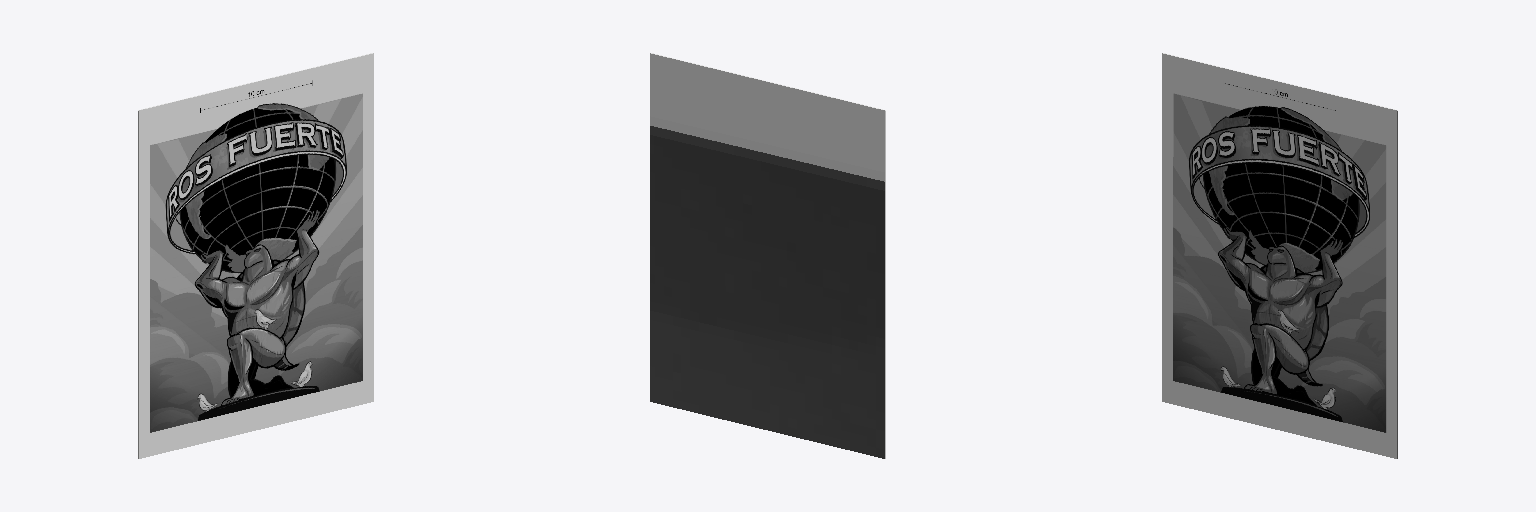
The picture shows the model from 3 angles: view 1: azimuth 30°, elevation 25°; view 2: azimuth 150°, elevation 25°; view 3: azimuth 330°, elevation 25°; orthographic projection.
Bounding box in the file's own units: 0.21 × 0.297 × 0.001.
Materials: 1 (1 with a texture image).